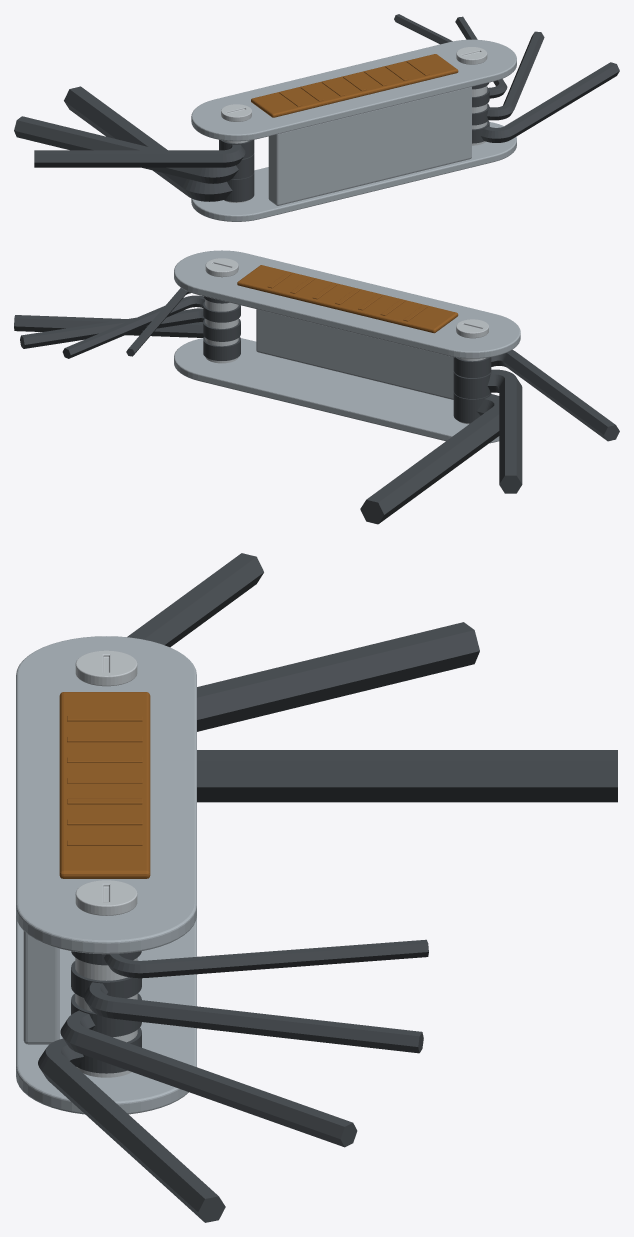
The model's file is folding_hex_key_LOD0.glb.
The picture shows the model from 3 angles, top to bottom: view 1: azimuth 30°, elevation 25°; view 2: azimuth 150°, elevation 25°; view 3: azimuth 270°, elevation 25°; orthographic projection. The views are drawn at different scales.
Parts seen in each view (by area): view 1: Case_backbone, Case_upper_cheek, Case_lower_cheek, Top_inset_ochre_grip, Key_L_4p0mm, Key_L_6p0mm, Key_L_5p0mm, Key_R_3p5mm, Key_R_3p0mm, Key_R_2p5mm, Key_R_2p0mm, Pivot_R_upper_cap (+1 smaller); view 2: Case_lower_cheek, Case_upper_cheek, Case_backbone, Key_L_6p0mm, Top_inset_ochre_grip, Key_L_5p0mm, Key_L_4p0mm, Key_R_3p5mm, Key_R_3p0mm, Key_R_2p5mm, Key_R_2p0mm, Pivot_R_upper_cap (+1 smaller); view 3: Case_upper_cheek, Key_L_6p0mm, Top_inset_ochre_grip, Key_L_5p0mm, Case_lower_cheek, Key_R_3p0mm, Key_R_2p5mm, Key_R_3p5mm, Key_R_2p0mm, Key_L_4p0mm, Case_backbone, Pivot_L_upper_cap (+1 smaller).
Boxes of the visible parts, x1=… form: Case_backbone: x1=268, y1=87, x2=471, y2=205; Case_upper_cheek: x1=191, y1=39, x2=516, y2=141; Case_lower_cheek: x1=191, y1=122, x2=516, y2=221; Top_inset_ochre_grip: x1=251, y1=54, x2=458, y2=117; Key_L_4p0mm: x1=34, y1=140, x2=254, y2=167; Key_L_6p0mm: x1=64, y1=86, x2=254, y2=202; Key_L_5p0mm: x1=14, y1=116, x2=254, y2=183; Key_R_3p5mm: x1=472, y1=62, x2=619, y2=143; Key_R_3p0mm: x1=472, y1=31, x2=544, y2=125; Key_R_2p5mm: x1=455, y1=16, x2=507, y2=107; Key_R_2p0mm: x1=394, y1=14, x2=488, y2=89; Pivot_R_upper_cap: x1=456, y1=47, x2=487, y2=64; Case_lower_cheek: x1=174, y1=338, x2=499, y2=443; Case_upper_cheek: x1=174, y1=250, x2=520, y2=358; Case_backbone: x1=256, y1=309, x2=453, y2=399; Key_L_6p0mm: x1=360, y1=392, x2=499, y2=524; Top_inset_ochre_grip: x1=237, y1=265, x2=458, y2=333; Key_L_5p0mm: x1=453, y1=369, x2=522, y2=493; Key_L_4p0mm: x1=453, y1=349, x2=619, y2=441; Key_R_3p5mm: x1=14, y1=315, x2=240, y2=360; Key_R_3p0mm: x1=20, y1=308, x2=240, y2=348; Key_R_2p5mm: x1=62, y1=295, x2=240, y2=358; Key_R_2p0mm: x1=126, y1=288, x2=229, y2=356; Pivot_R_upper_cap: x1=205, y1=258, x2=238, y2=277; Case_upper_cheek: x1=16, y1=636, x2=196, y2=954; Key_L_6p0mm: x1=197, y1=750, x2=617, y2=802; Top_inset_ochre_grip: x1=59, y1=692, x2=150, y2=878; Key_L_5p0mm: x1=197, y1=622, x2=479, y2=731; Case_lower_cheek: x1=16, y1=916, x2=196, y2=1114; Key_R_3p0mm: x1=60, y1=993, x2=357, y2=1147; Key_R_2p5mm: x1=71, y1=961, x2=423, y2=1053; Key_R_3p5mm: x1=38, y1=1028, x2=225, y2=1222; Key_R_2p0mm: x1=71, y1=939, x2=428, y2=978; Key_L_4p0mm: x1=127, y1=553, x2=263, y2=647; Case_backbone: x1=23, y1=931, x2=59, y2=1044; Pivot_L_upper_cap: x1=75, y1=650, x2=137, y2=686.
Size of the model in its own units: 0.1765 by 0.0286 by 0.0798.
